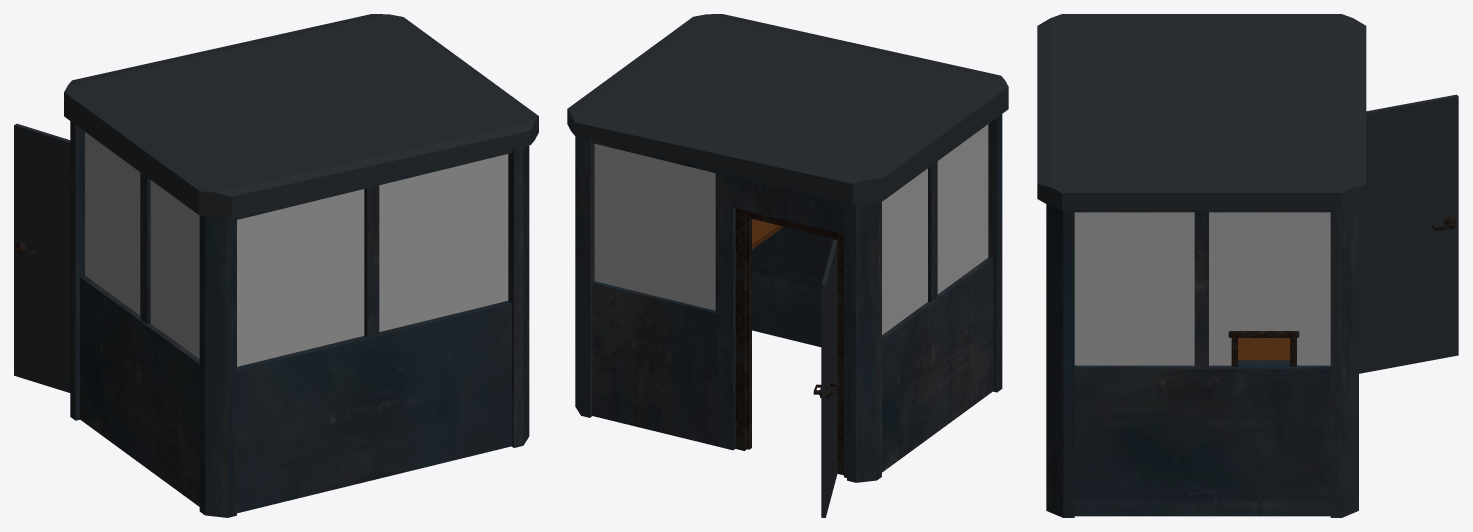
Rendered from security-booth.lod0.glb.
3 renders of one model, left to right at view 1: azimuth 30°, elevation 25°; view 2: azimuth 150°, elevation 25°; view 3: azimuth 270°, elevation 25°, orthographic. The views are drawn at different scales.
Visible parts, largest first — view 1: Object_5, Object_8; view 2: Object_5, Object_8, Object_4; view 3: Object_5, Object_8, Object_4.
Boxes of the visible parts, left/top/right/bottom form: Object_5: left=14, top=14, right=538, bottom=392; Object_8: left=70, top=121, right=529, bottom=517; Object_5: left=567, top=14, right=1008, bottom=517; Object_8: left=575, top=114, right=1002, bottom=482; Object_4: left=735, top=208, right=843, bottom=475; Object_5: left=1037, top=14, right=1458, bottom=373; Object_8: left=1046, top=203, right=1358, bottom=517; Object_4: left=1228, top=216, right=1455, bottom=366.
Bounding box in the file's own units: 2.88 × 2.65 × 3.
Materials: 3 (2 with a texture image).
